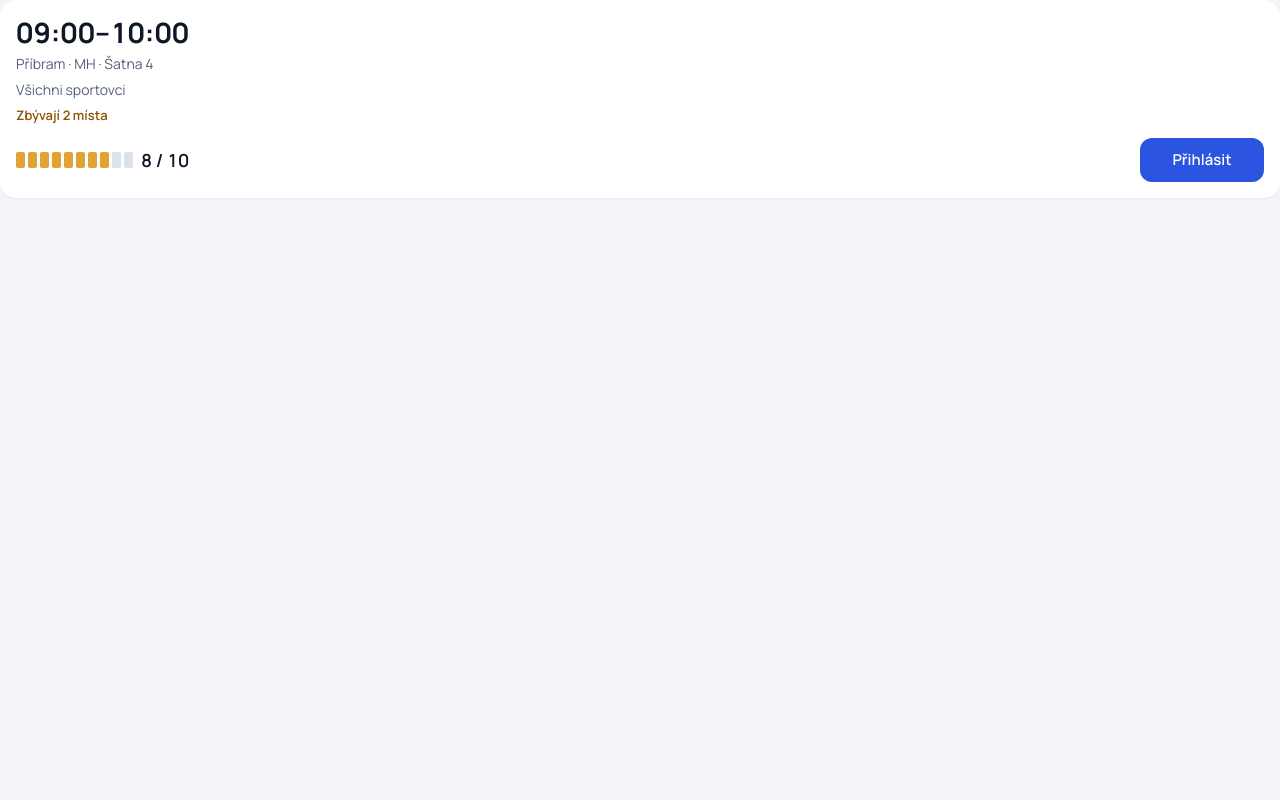
the sheet when the training fills up under it (AC-268) › stays open and refuses to send, rather than disappearing
Later steps or results of the test are not shown.
Click the button "Přihlásit".
click(1202, 160)  # box [1140,138,1264,182]
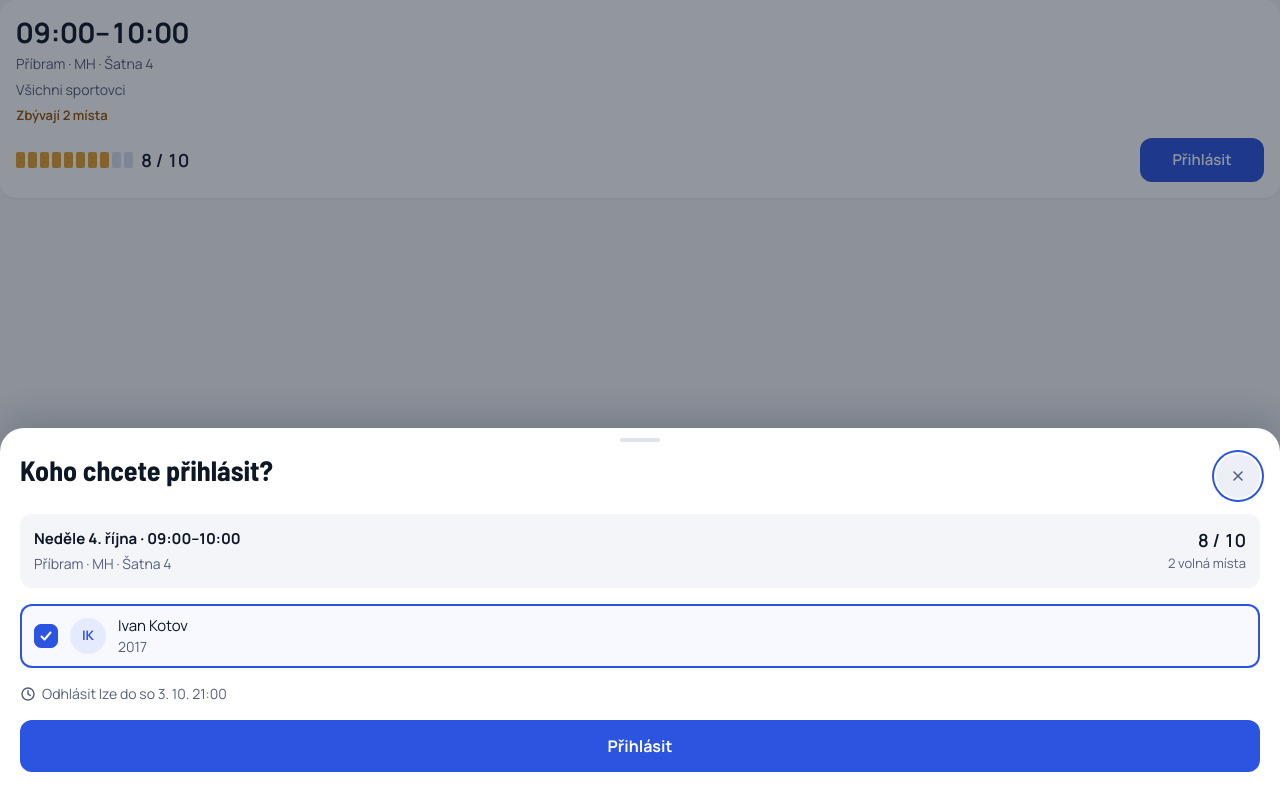
Expected: the dialog is shown, [0,428,1279,799]
